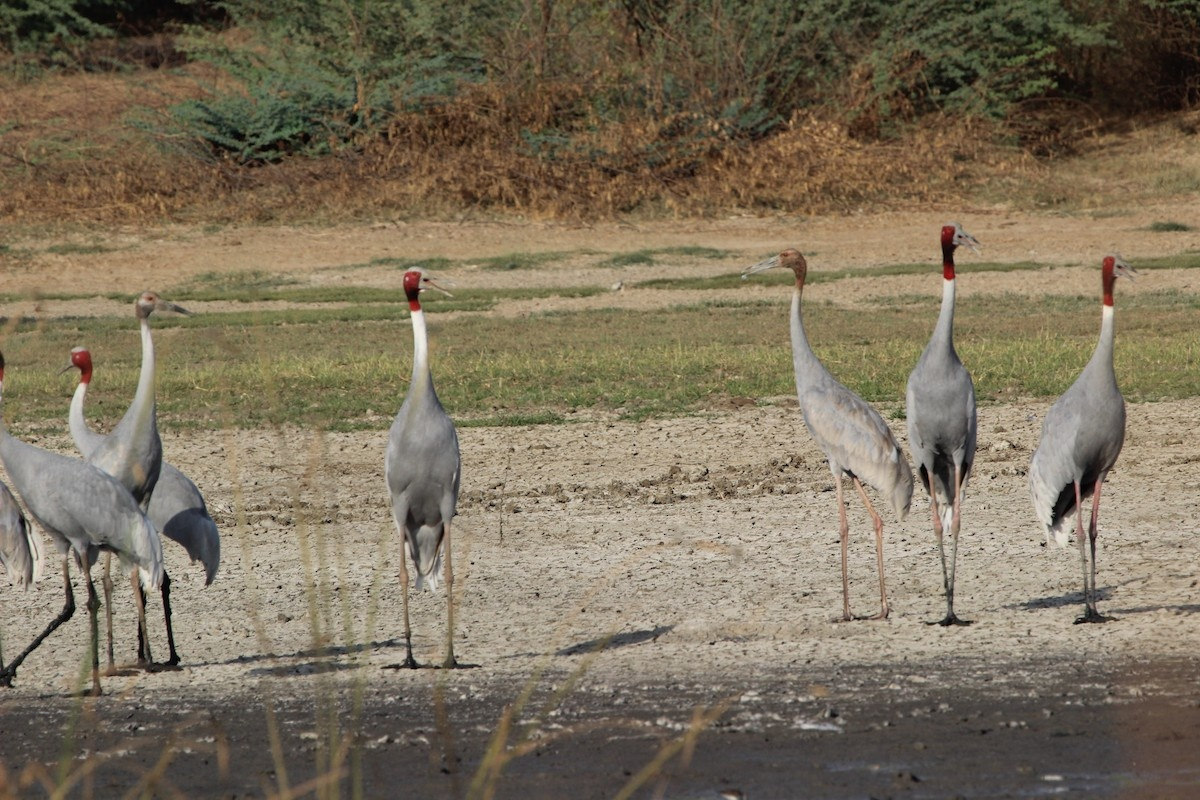crane: (735, 240, 923, 629), (383, 258, 486, 672), (1033, 248, 1145, 628), (911, 210, 993, 636), (100, 280, 199, 484), (56, 343, 107, 451)
